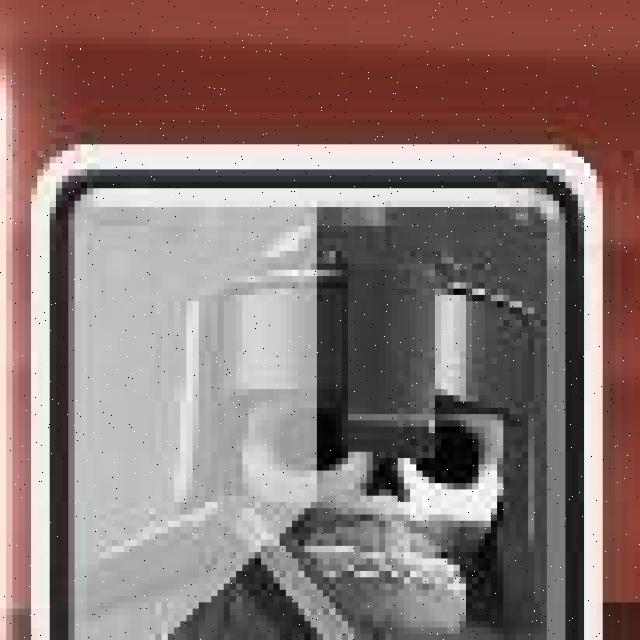Guards: (33, 144, 605, 640)
